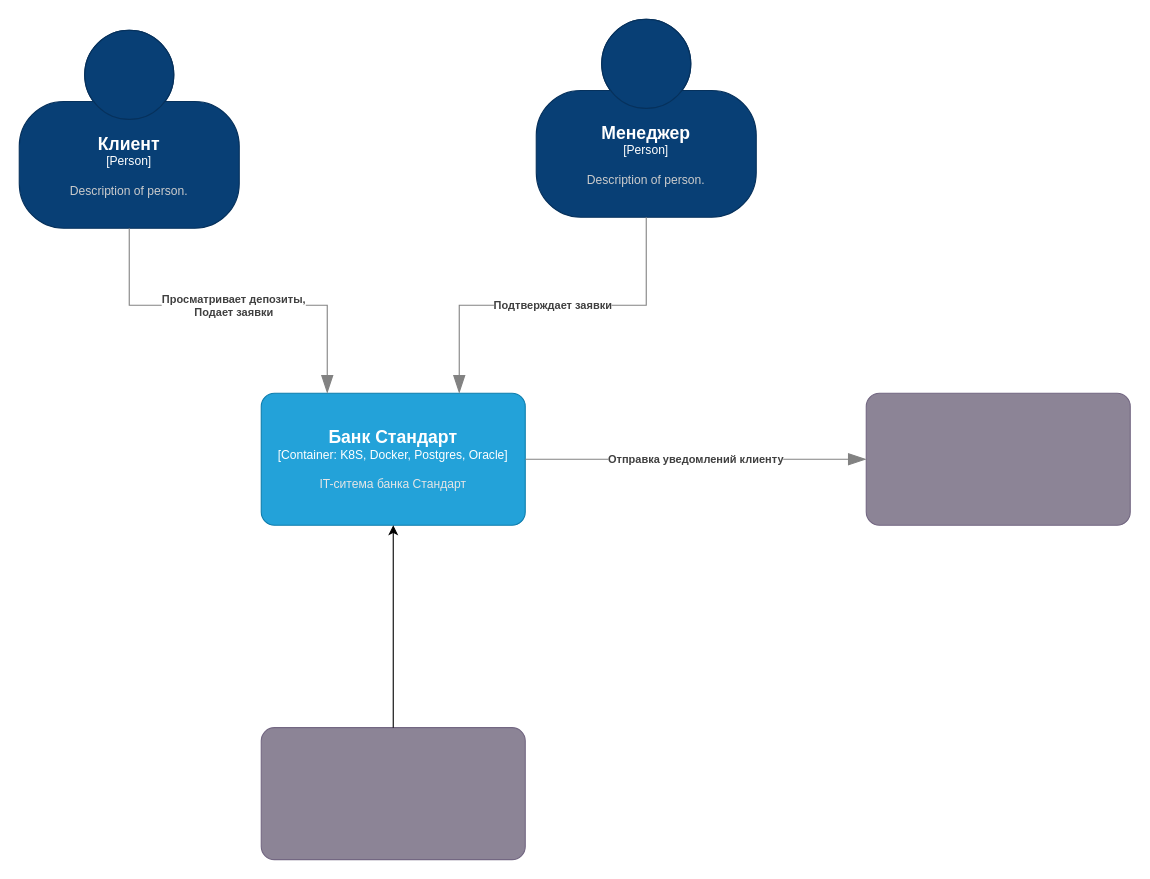
Some shapes in this 1150 by 879 pixel diagram are drawn without their labels. The shapes that lost their labels are listed below. From the top down, each one's centre as x and y in pixels, then its label:
(997,458): Система телеком-оператора [Software System] Отправка СМС сообщений
(392,793): Система партнерского колл-центра [Software System] Обработка клиентских запросов
